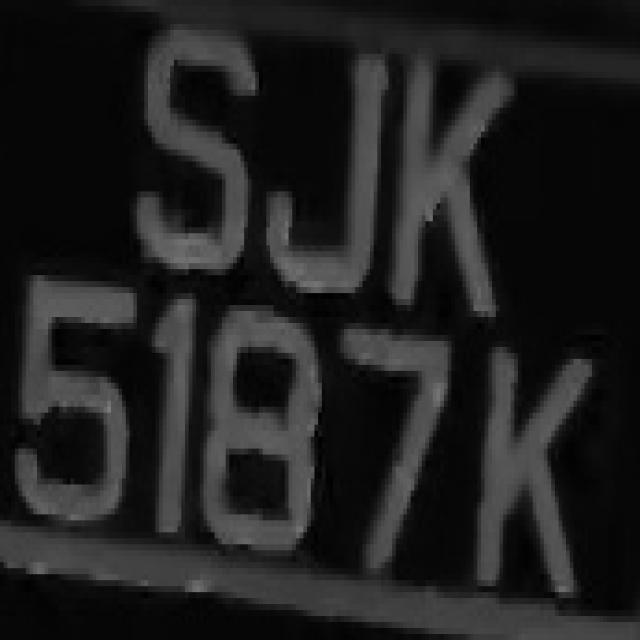1: (152, 263, 196, 544)
5: (7, 251, 126, 562)
7: (329, 287, 455, 598)
8: (200, 287, 329, 592)
J: (255, 30, 392, 299)
K: (374, 24, 518, 329), (466, 311, 603, 628)
S: (118, 24, 244, 299)
